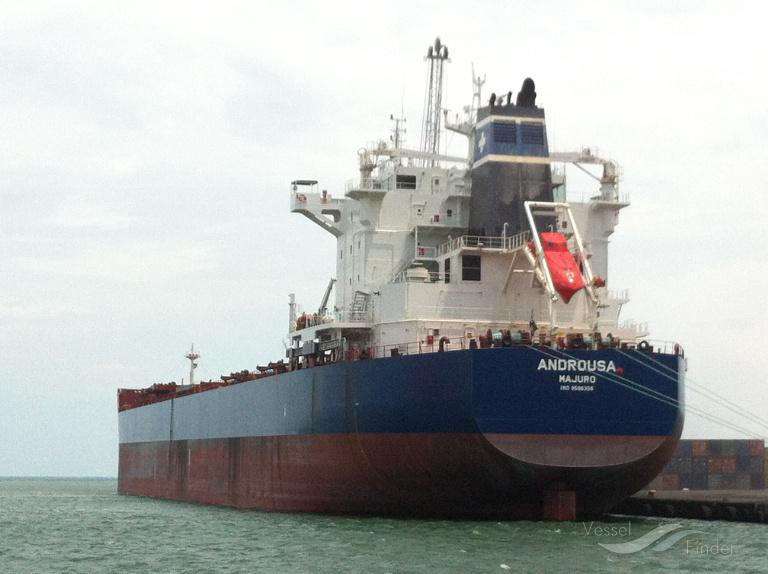OCR: (534, 352, 622, 404)
